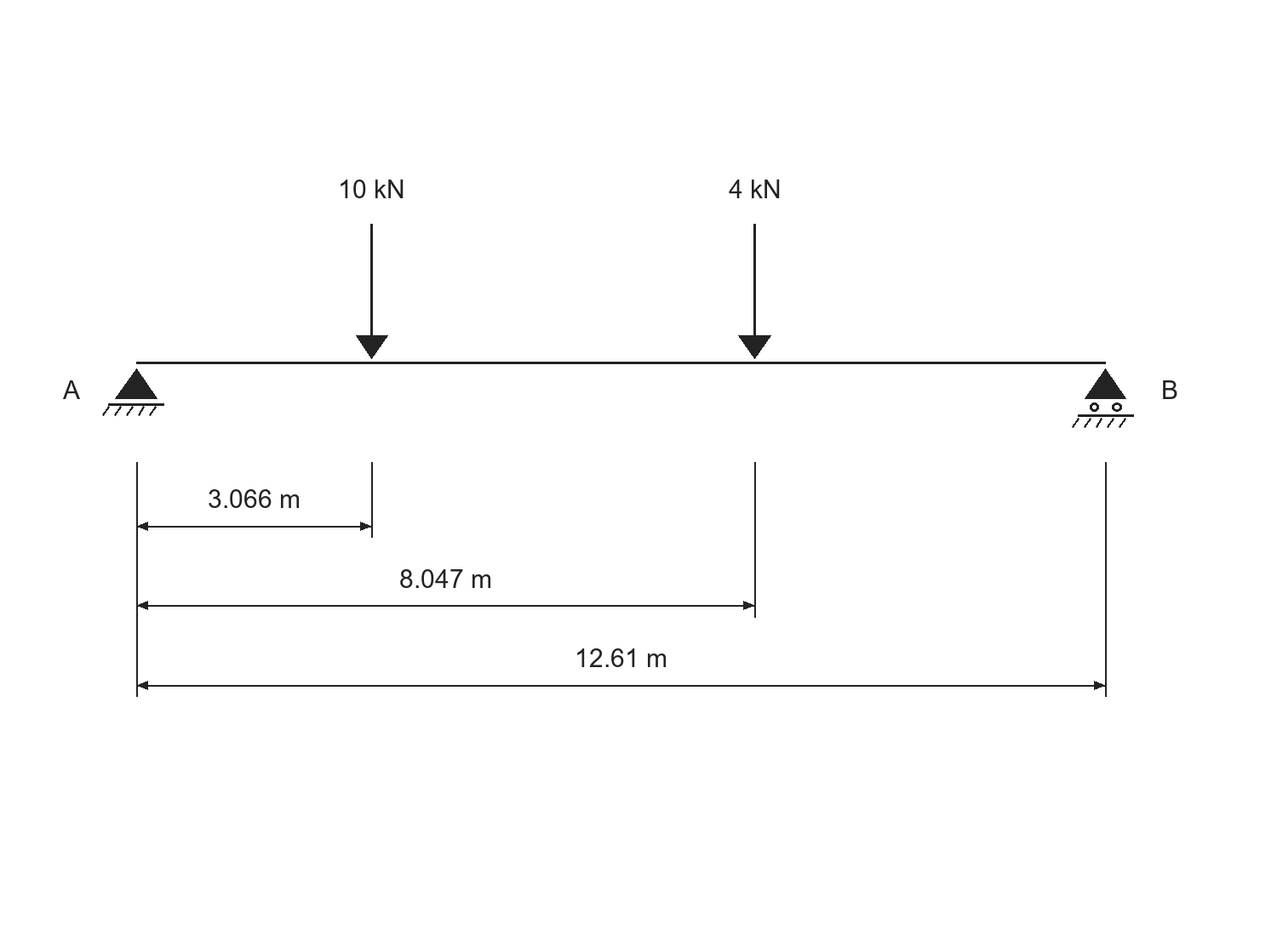pin_support: (102, 368, 164, 416)
point_load: (738, 224, 771, 359), (356, 224, 388, 359)
roller_support: (1072, 368, 1134, 428)
